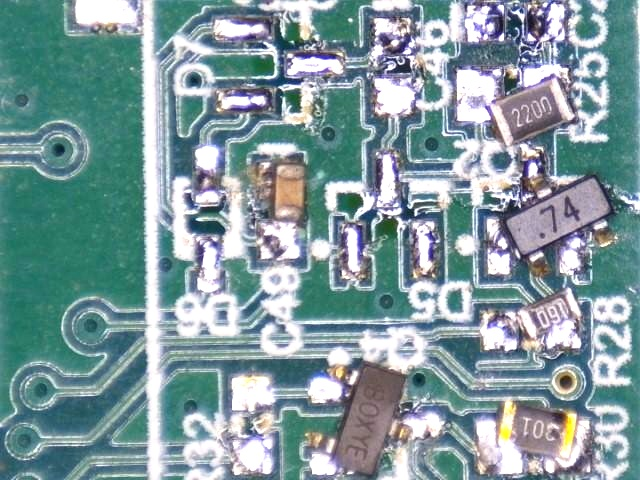pcb_defect: (486, 146, 616, 279), (305, 362, 442, 477), (456, 66, 576, 149), (476, 401, 591, 476), (481, 285, 583, 350), (255, 162, 308, 261)
